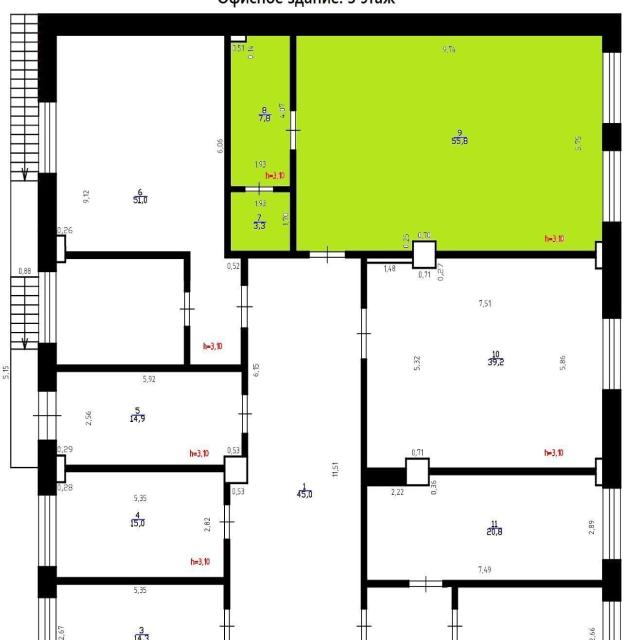Corridors: (231, 259, 360, 640), (231, 37, 289, 185), (191, 259, 240, 364), (368, 590, 451, 639), (232, 193, 290, 251)
Doors: (32, 392, 62, 440), (309, 244, 346, 266), (356, 309, 372, 359), (235, 285, 253, 328), (409, 575, 443, 595), (286, 110, 302, 150), (236, 396, 253, 433), (179, 292, 195, 327), (219, 506, 236, 538), (219, 609, 236, 640), (356, 609, 373, 640), (447, 610, 464, 640), (245, 181, 274, 196), (191, 252, 224, 259)
LBwalls: (38, 13, 621, 102), (602, 389, 622, 488), (38, 172, 57, 273), (602, 221, 621, 319), (38, 440, 56, 495), (38, 342, 57, 392), (602, 559, 621, 602), (368, 467, 406, 487), (405, 457, 430, 487), (224, 455, 248, 485), (412, 241, 436, 271), (38, 566, 57, 598), (602, 124, 621, 151), (57, 234, 66, 264), (57, 454, 66, 483), (595, 240, 603, 270), (595, 458, 603, 487), (231, 35, 247, 42)
Offices: (297, 36, 602, 252), (368, 258, 602, 467), (58, 37, 224, 251), (368, 476, 602, 580), (57, 372, 242, 464), (57, 473, 222, 576), (58, 260, 183, 364), (57, 585, 223, 640), (459, 588, 602, 640)
Stairs: (10, 13, 39, 469)
Walls: (224, 36, 310, 286), (57, 326, 249, 395), (360, 358, 410, 610), (58, 539, 231, 609), (66, 251, 191, 292), (442, 580, 602, 609), (345, 250, 413, 309), (66, 464, 224, 473), (429, 467, 596, 475), (437, 251, 596, 258), (289, 36, 296, 110), (241, 433, 248, 456), (224, 483, 231, 505)
Windows: (38, 102, 57, 173), (38, 495, 57, 566), (602, 151, 621, 222), (38, 272, 57, 342), (603, 488, 621, 561), (603, 53, 621, 124), (602, 319, 620, 389), (38, 598, 57, 640), (603, 601, 620, 640)
